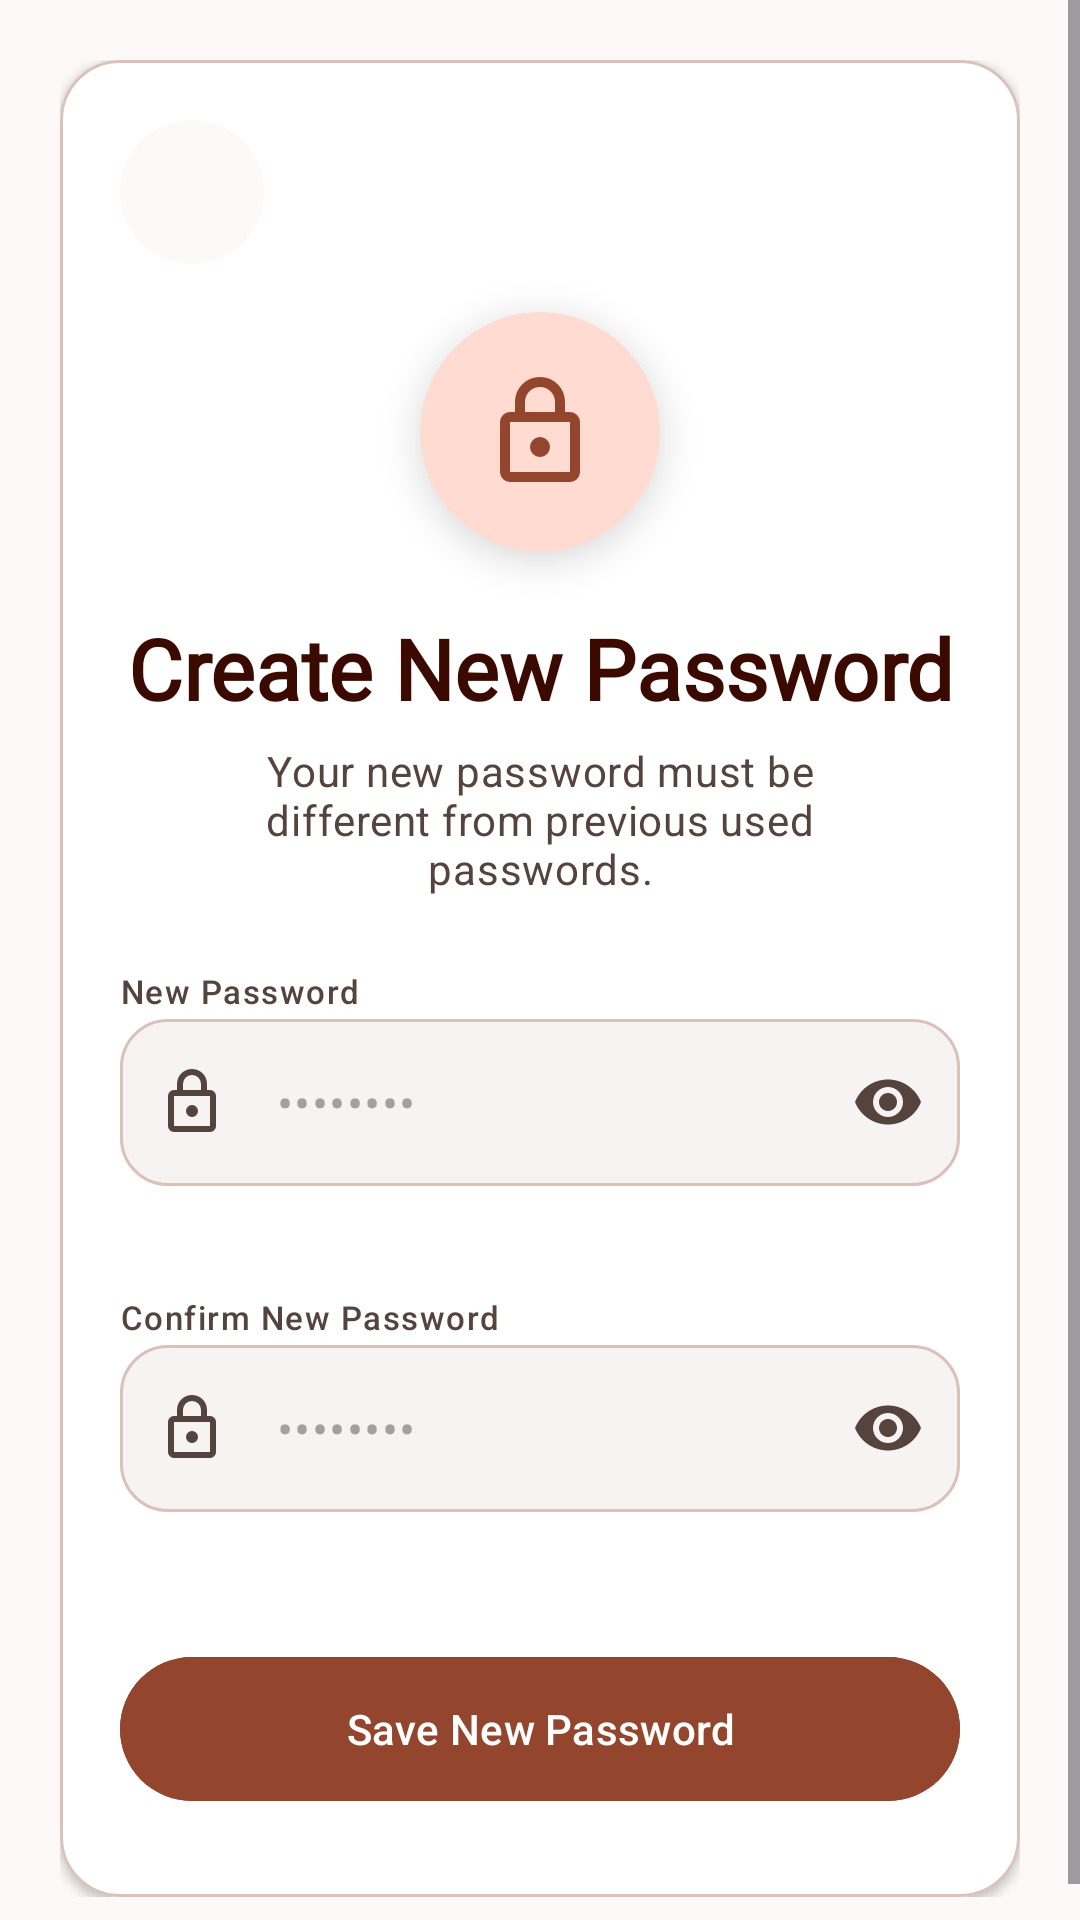

Locate icon controls on the screen. Image size 1080px x 1920px, boxes as (x1, y1, x2, y2).
lock: (500, 377, 580, 482)
